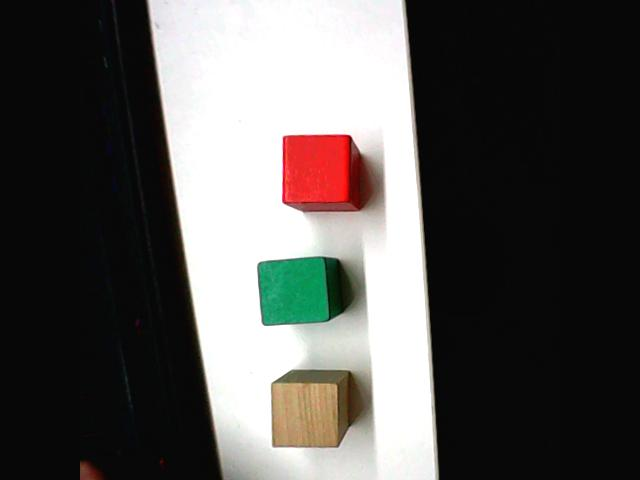green_box: (253, 253, 346, 328)
raw_box: (266, 366, 353, 451)
red_box: (277, 131, 365, 215)
